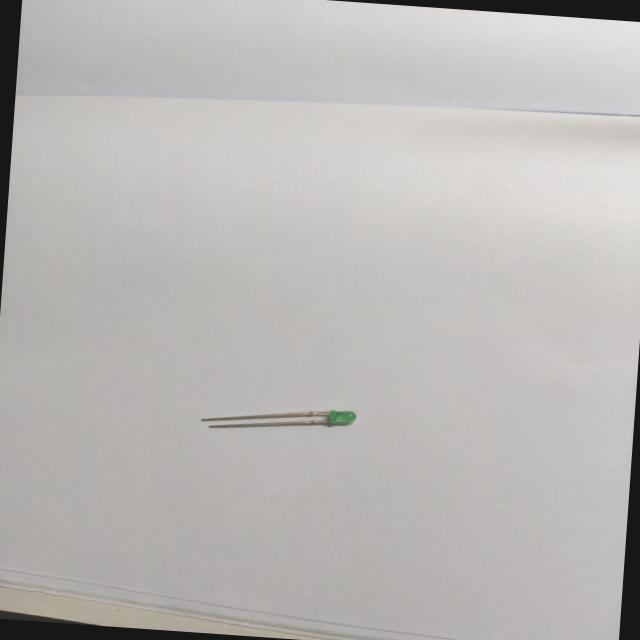led: (190, 386, 364, 448)
